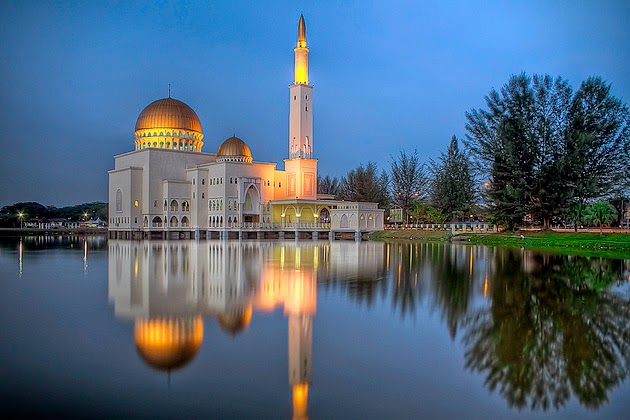Mosque: (95, 14, 318, 233)
